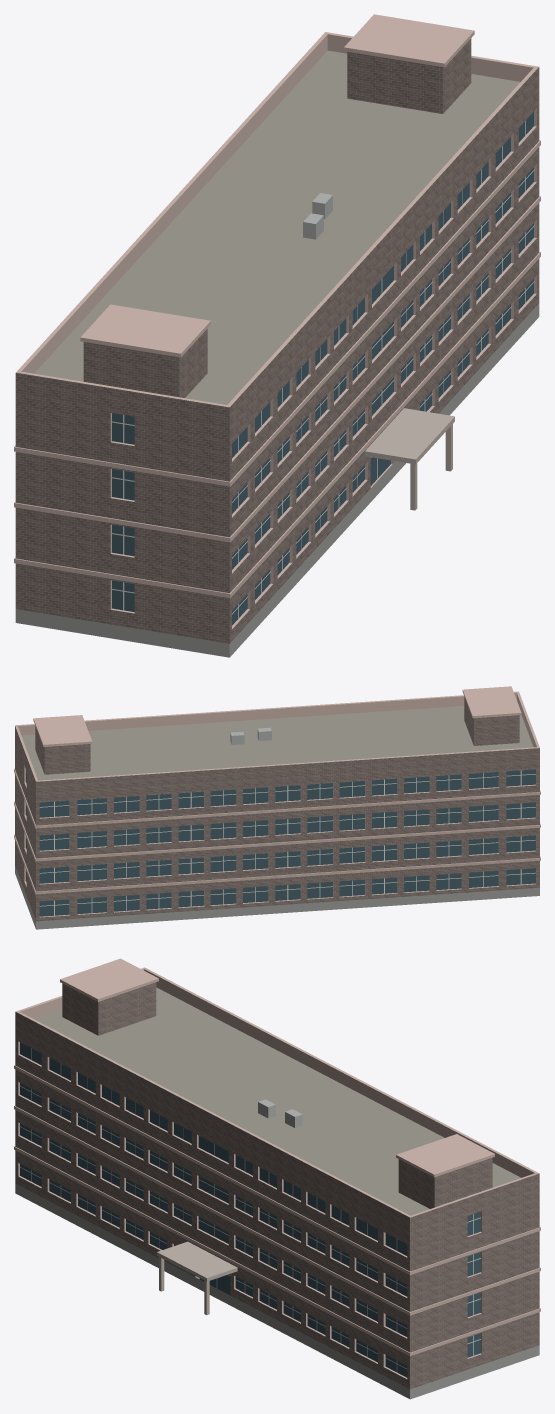
3 renders of one model, top to bottom at view 1: azimuth 30°, elevation 25°; view 2: azimuth 150°, elevation 25°; view 3: azimuth 270°, elevation 25°, orthographic. The views are drawn at different scales.
Parts seen in each view (by area): view 1: wing1__brick, wing1__roof, wing1__trim-concrete, wing1__wall-plaster, wing1__glass, wing1__base-stone, wing1__canopy-concrete, wing1__frame, wing1__equipment; view 2: wing1__wall-plaster, wing1__glass, wing1__roof, wing1__brick, wing1__trim-concrete, wing1__base-stone, wing1__frame, wing1__equipment; view 3: wing1__brick, wing1__wall-plaster, wing1__roof, wing1__trim-concrete, wing1__glass, wing1__base-stone, wing1__frame, wing1__canopy-concrete, wing1__equipment.
Boxes of the visible parts, bbox=[...] form: wing1__brick: bbox=[15, 38, 539, 643]; wing1__roof: bbox=[34, 50, 520, 404]; wing1__trim-concrete: bbox=[14, 14, 540, 628]; wing1__wall-plaster: bbox=[275, 117, 493, 592]; wing1__glass: bbox=[112, 111, 533, 625]; wing1__base-stone: bbox=[15, 303, 539, 657]; wing1__canopy-concrete: bbox=[365, 408, 454, 510]; wing1__frame: bbox=[111, 121, 534, 618]; wing1__equipment: bbox=[303, 193, 332, 239]; wing1__wall-plaster: bbox=[111, 753, 465, 916]; wing1__glass: bbox=[26, 769, 535, 916]; wing1__roof: bbox=[21, 706, 533, 780]; wing1__brick: bbox=[15, 697, 539, 921]; wing1__trim-concrete: bbox=[14, 686, 540, 917]; wing1__base-stone: bbox=[15, 866, 539, 929]; wing1__frame: bbox=[25, 770, 535, 915]; wing1__equipment: bbox=[230, 727, 271, 744]; wing1__brick: bbox=[15, 982, 539, 1389]; wing1__wall-plaster: bbox=[74, 1042, 351, 1358]; wing1__roof: bbox=[34, 987, 520, 1215]; wing1__trim-concrete: bbox=[14, 958, 540, 1378]; wing1__glass: bbox=[20, 1042, 480, 1377]; wing1__base-stone: bbox=[15, 1183, 539, 1399]; wing1__frame: bbox=[19, 1048, 480, 1372]; wing1__canopy-concrete: bbox=[157, 1241, 237, 1315]; wing1__equipment: bbox=[258, 1099, 302, 1128].
Bounding box in the file's own units: 47.91 × 18.45 × 42.43.
Materials: 9 (2 with a texture image).
